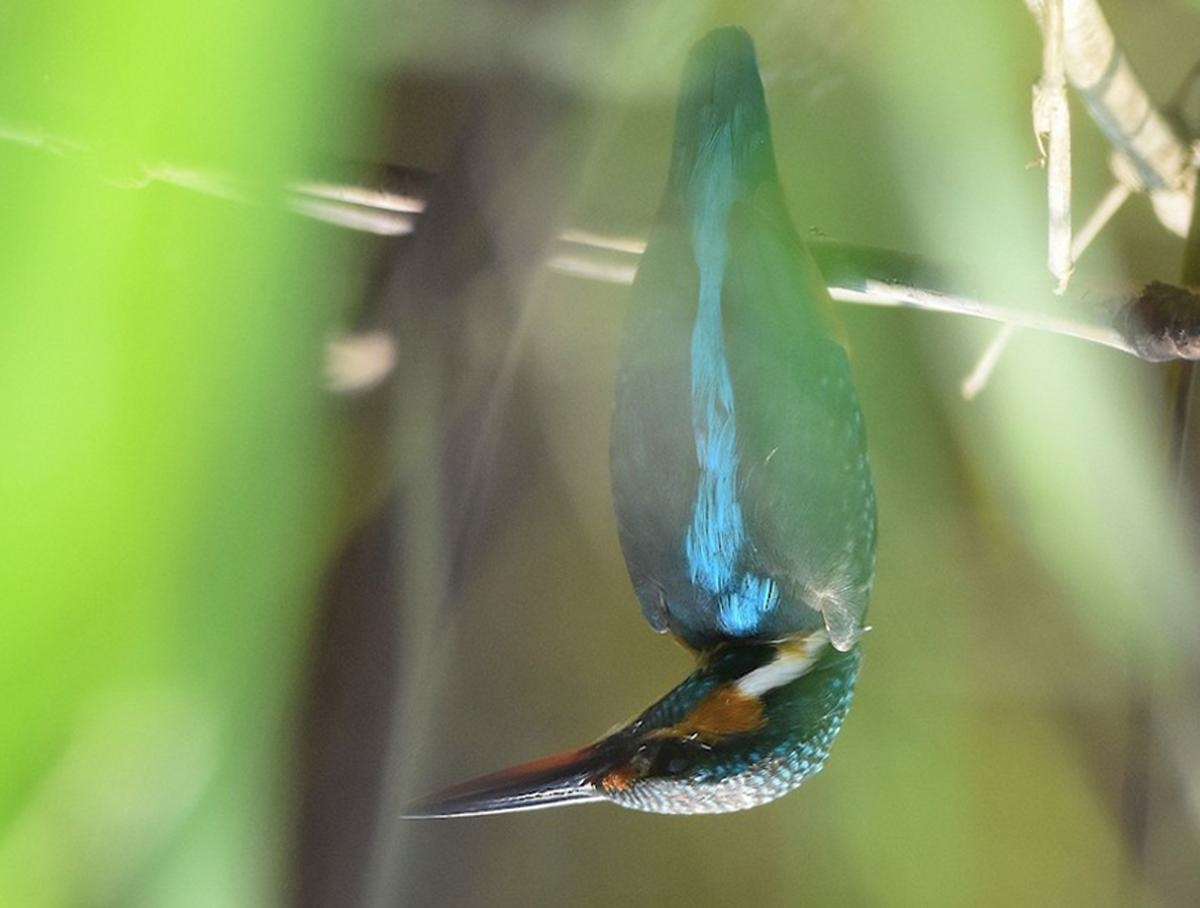kingfisher: (417, 46, 868, 849)
